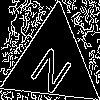N: (28, 38, 80, 97)
